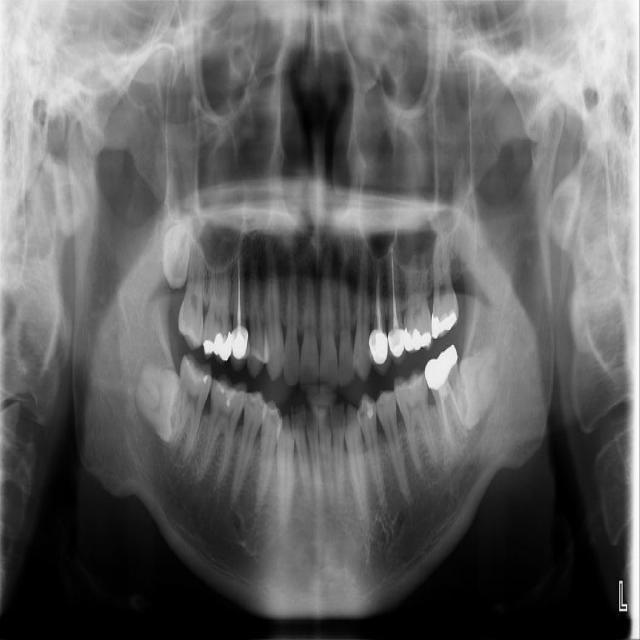3M ESPE Implant: (158, 214, 195, 291)
52: (414, 341, 472, 398), (418, 290, 473, 343), (202, 372, 250, 426), (171, 352, 217, 403), (390, 368, 435, 420), (202, 310, 233, 364), (401, 306, 435, 354), (368, 328, 393, 378), (372, 388, 401, 428), (229, 326, 250, 373), (242, 391, 267, 429), (387, 328, 409, 366), (359, 393, 377, 433)
73: (431, 377, 474, 456), (366, 256, 388, 335), (231, 249, 251, 335), (387, 241, 403, 333), (621, 617, 629, 622)
BioHorizons Implant: (431, 229, 463, 341)
Biomet 3i Implant: (453, 342, 502, 432)
Blue Sky Bio Implant: (421, 344, 472, 457)
Caries: (177, 238, 208, 352)
Implant: (168, 352, 215, 465)
Keystone Dental Implant: (132, 361, 184, 442)
